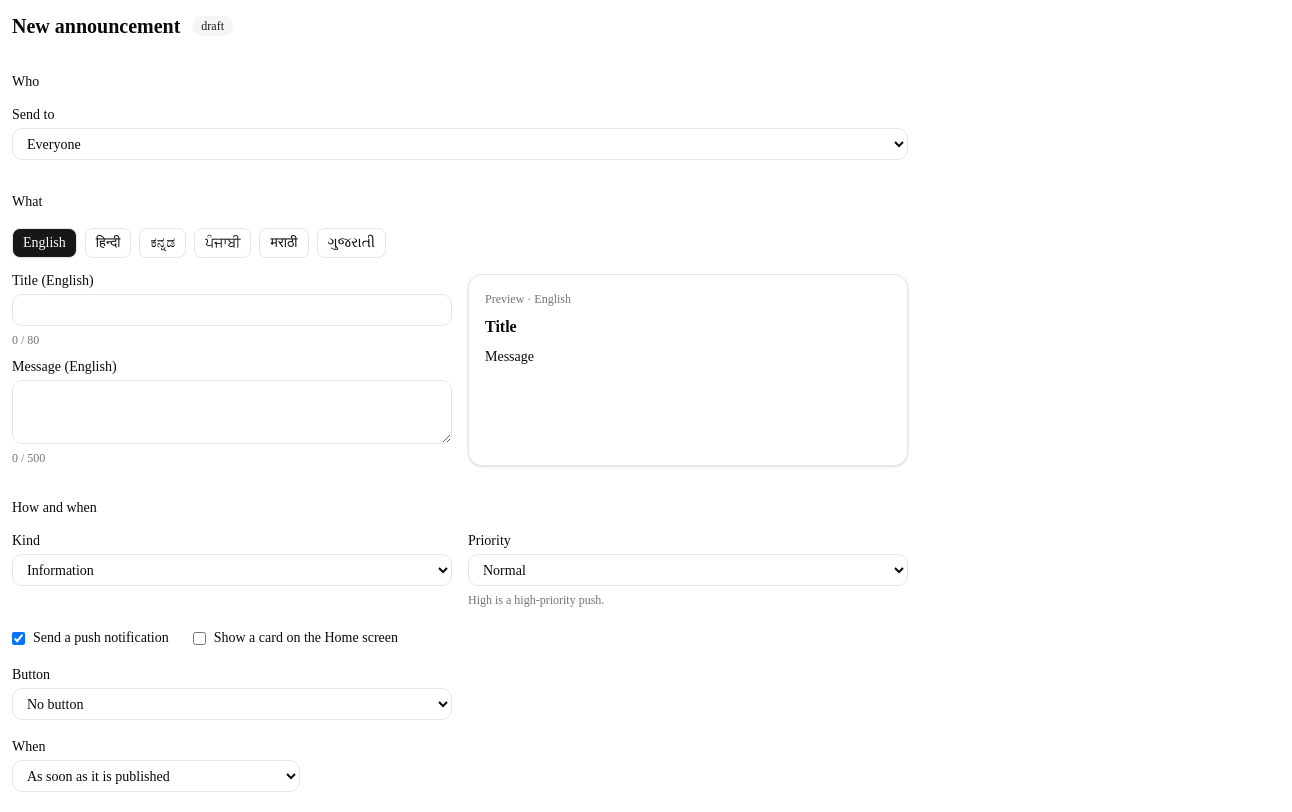
Test: a new announcement › counts the characters left in each field
This screenshot has width=1292, height=812.
Type "Hello" into the field labelled "Title (English)" at (232, 310), box [12,294,452,326]
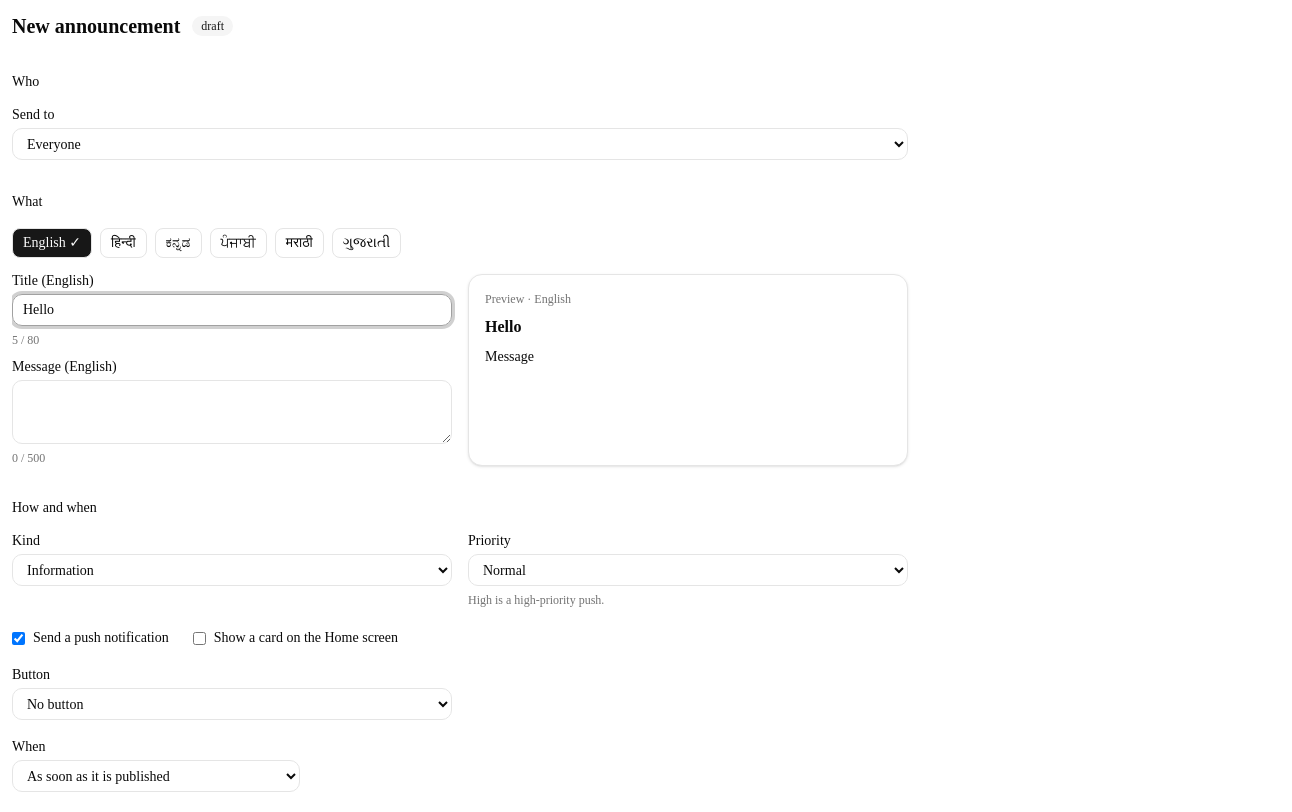
Result: the text "5 / 80" is shown at [12,333,39,347]
